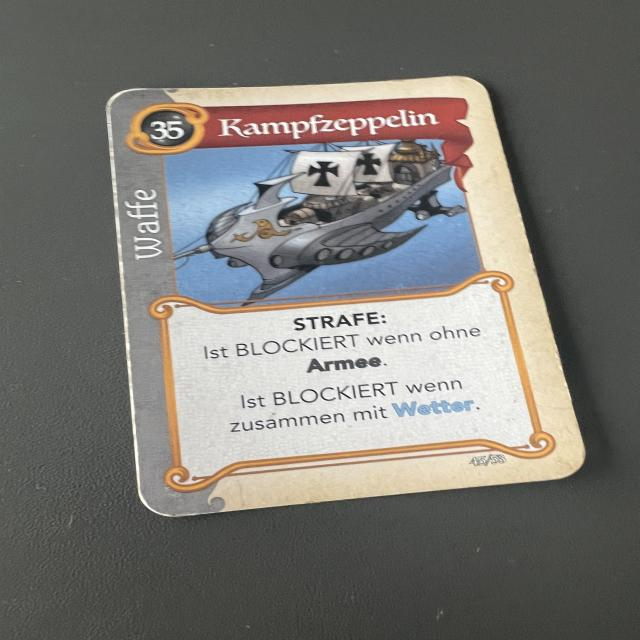War Dirigable: (106, 73, 596, 525)
